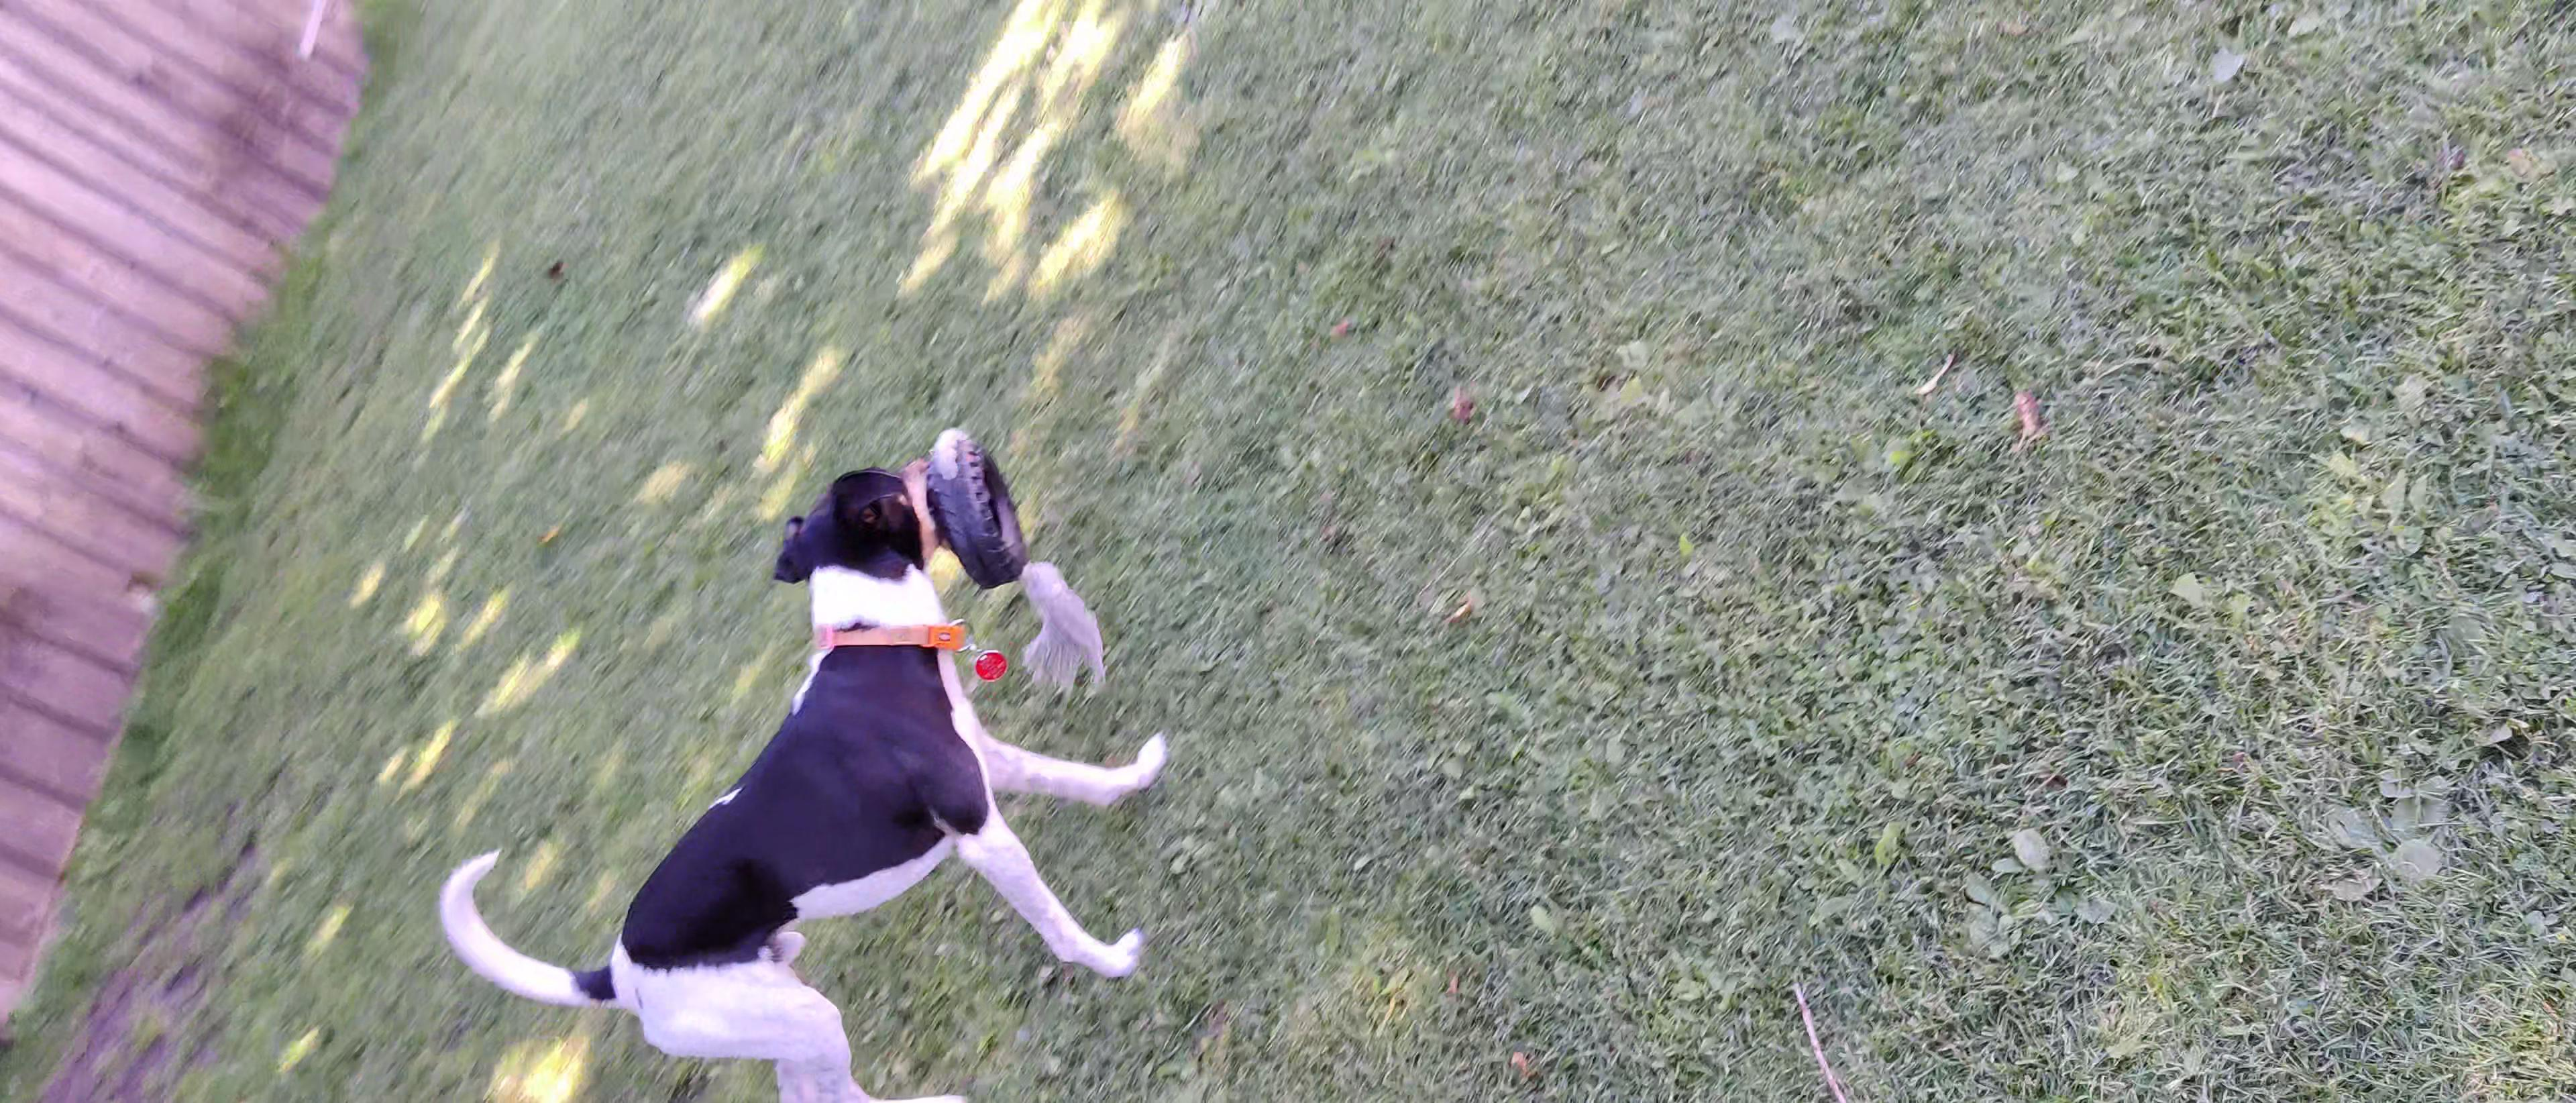Dog: (430, 445, 1175, 1103)
